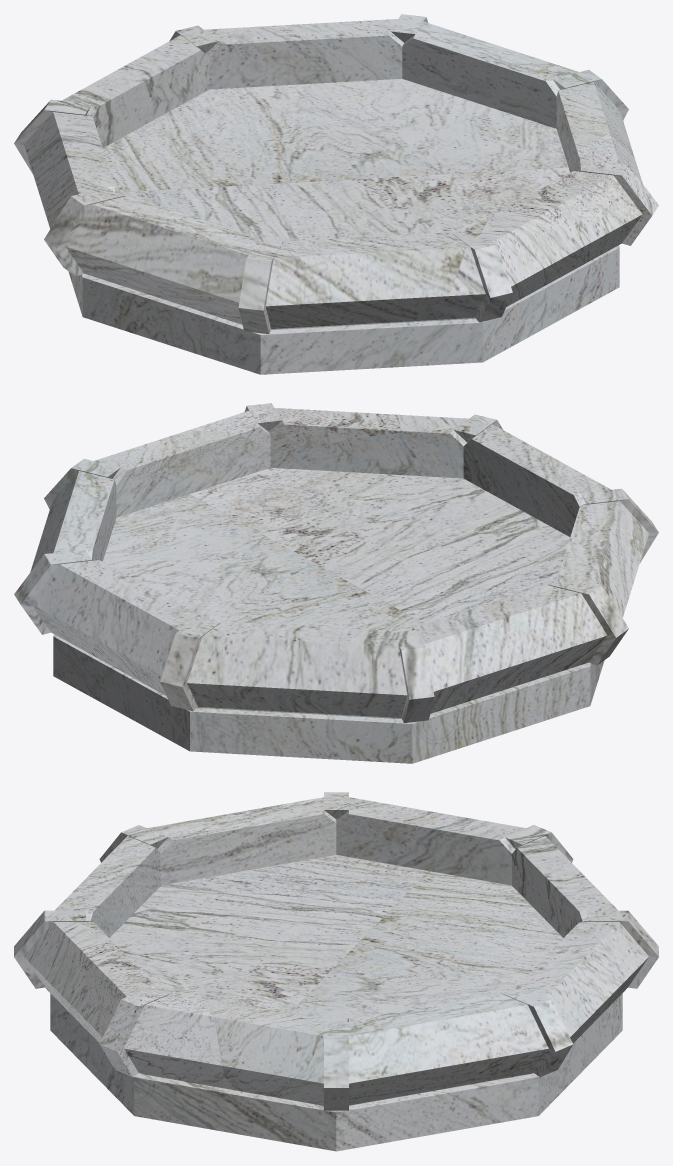
The model's file is Planter_D.fbx.
3 renders of one model, top to bottom at view 1: azimuth 30°, elevation 25°; view 2: azimuth 150°, elevation 25°; view 3: azimuth 270°, elevation 25°, orthographic. The views are drawn at different scales.
Visible parts, largest first — view 1: Planter_D_LOD0; view 2: Planter_D_LOD0; view 3: Planter_D_LOD0.
Part boxes in pixels (left/top/right/bottom): Planter_D_LOD0: left=14, top=14, right=658, bottom=374; Planter_D_LOD0: left=14, top=403, right=658, bottom=763; Planter_D_LOD0: left=14, top=792, right=658, bottom=1151.
Size of what is drawn, in the model's own units: 1377 by 270 by 1377.
